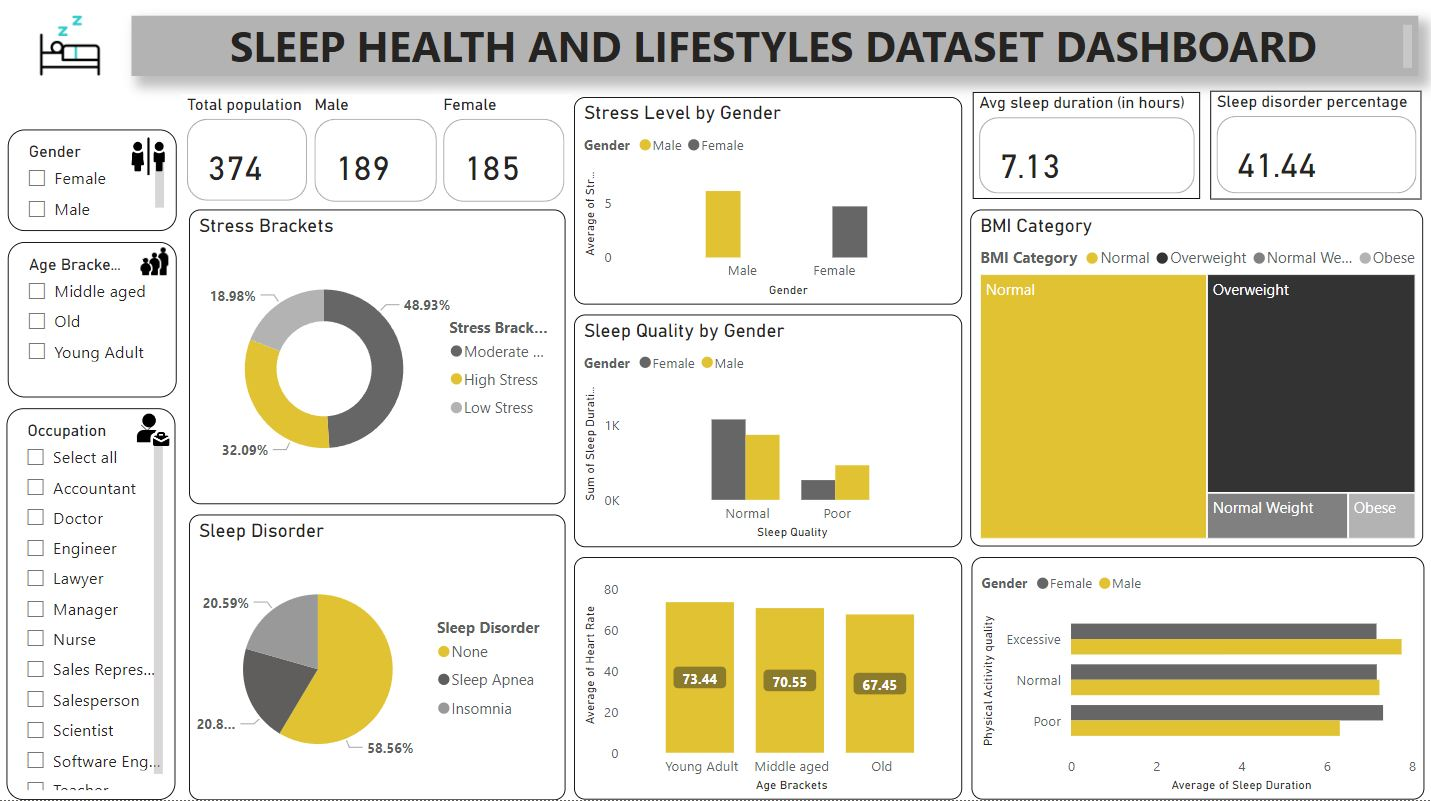

The page's visual inventory and layout, read from the dashboard file:
{"tool":"powerbi","page":{"name":"Page 1","canvas":[1280,720],"ordinal":0},"visuals":[{"type":"textbox","box":[117.4,20.9,1145.4,53.5],"z":0},{"type":"image","box":[10.5,9.3,107,77.9],"z":1000},{"type":"clusteredColumnChart","title":" Stress Level by Gender","fields":{"Category":["Sleep_health_and_lifestyle_dataset.Gender"],"Y":["Avg(Sleep_health_and_lifestyle_dataset.Stress Level)"],"Series":["Sleep_health_and_lifestyle_dataset.Gender"]},"box":[511.6,93,345.3,184.9],"z":2000},{"type":"donutChart","title":"Stress Brackets","fields":{"Category":["Sleep_health_and_lifestyle_dataset.Stress Brackets"],"Y":["CountNonNull(Sleep_health_and_lifestyle_dataset.Stress Brackets)"]},"box":[168.6,194.2,334.9,262.8],"z":3000},{"type":"clusteredColumnChart","title":"Sleep Quality by Gender","fields":{"Category":["Sleep_health_and_lifestyle_dataset.Sleep Quality"],"Y":["Sum(Sleep_health_and_lifestyle_dataset.Sleep Duration)"],"Series":["Sleep_health_and_lifestyle_dataset.Gender"]},"box":[511.6,287.2,345.3,207],"z":4000},{"type":"slicer","fields":{"Values":["Sleep_health_and_lifestyle_dataset.Age Brackets"]},"box":[8.1,222.1,150,138.4],"z":5000},{"type":"slicer","fields":{"Values":["Sleep_health_and_lifestyle_dataset.Occupation"]},"box":[7,370.9,150,348.8],"z":6000},{"type":"pieChart","title":"Sleep Disorder","fields":{"Category":["Sleep_health_and_lifestyle_dataset.Sleep Disorder"],"Y":["CountNonNull(Sleep_health_and_lifestyle_dataset.Sleep Disorder)"]},"box":[168.6,465.1,334.9,254.7],"z":7000},{"type":"clusteredColumnChart","fields":{"Y":["Avg(Sleep_health_and_lifestyle_dataset.Heart Rate)"],"Category":["Sleep_health_and_lifestyle_dataset.Age Brackets"]},"box":[511.6,503.5,345.3,216.3],"z":8000},{"type":"treemap","title":"BMI Category ","fields":{"Group":["Sleep_health_and_lifestyle_dataset.BMI Category"],"Values":["CountNonNull(Sleep_health_and_lifestyle_dataset.BMI Category)"]},"box":[865.1,194.2,403.5,300],"z":9000},{"type":"slicer","fields":{"Values":["Sleep_health_and_lifestyle_dataset.Gender"]},"box":[8.1,122.1,150,90.7],"z":10000},{"type":"image","box":[108.1,124.4,50,43],"z":11000},{"type":"image","box":[117.4,222.1,40.7,34.9],"z":12000},{"type":"image","box":[112.8,370.9,48.8,38.4],"z":13000},{"type":"cardVisual","title":"Avg  sleep duration (in hours)","fields":{"Data":["DAX.average_sleep_duration"]},"box":[867.4,89.5,202.3,95.3],"z":14000},{"type":"cardVisual","title":"Sleep disorder percentage","fields":{"Data":["DAX.percentage_of_sleep_disorder"]},"box":[1077.9,88.4,188.4,96.5],"z":15000},{"type":"cardVisual","title":"Male","fields":{"Data":["DAX.male_count"]},"box":[275.7,90.7,119.8,101.2],"z":16000},{"type":"cardVisual","title":"Female","fields":{"Data":["DAX.female_count"]},"box":[390.7,90.7,118.6,101.2],"z":17000},{"type":"cardVisual","title":"Total population","fields":{"Data":["DAX.total_population"]},"box":[162.5,90.7,118,100.2],"z":18000},{"type":"clusteredBarChart","fields":{"Category":["Sleep_health_and_lifestyle_dataset.Physical Acitivity quality"],"Y":["Avg(Sleep_health_and_lifestyle_dataset.Sleep Duration)"],"Series":["Sleep_health_and_lifestyle_dataset.Gender"]},"box":[866.3,503.5,403.5,216.3],"z":19000}]}

Visuals, with their boxes in screenshot pixels (x1, y1, x2, y2), scaled from the page's 1280x720 canvas onto the 1431x801 screenshot:
textbox: (131, 23, 1412, 83)
image: (12, 10, 131, 97)
" Stress Level by Gender" clusteredColumnChart: (572, 103, 958, 309)
"Stress Brackets" donutChart: (188, 216, 563, 508)
"Sleep Quality by Gender" clusteredColumnChart: (572, 320, 958, 550)
slicer - Sleep_health_and_lifestyle_dataset.Age Brackets: (9, 247, 177, 401)
slicer - Sleep_health_and_lifestyle_dataset.Occupation: (8, 413, 176, 800)
"Sleep Disorder" pieChart: (188, 517, 563, 800)
clusteredColumnChart - Avg(Sleep_health_and_lifestyle_dataset.Heart Rate) x Sleep_health_and_lifestyle_dataset.Age Brackets: (572, 560, 958, 800)
"BMI Category " treemap: (967, 216, 1418, 550)
slicer - Sleep_health_and_lifestyle_dataset.Gender: (9, 136, 177, 237)
image: (121, 138, 177, 186)
image: (131, 247, 177, 286)
image: (126, 413, 181, 455)
"Avg  sleep duration (in hours)" cardVisual: (970, 100, 1196, 206)
"Sleep disorder percentage" cardVisual: (1205, 98, 1416, 206)
"Male" cardVisual: (308, 101, 442, 213)
"Female" cardVisual: (437, 101, 569, 213)
"Total population" cardVisual: (182, 101, 314, 212)
clusteredBarChart - Sleep_health_and_lifestyle_dataset.Physical Acitivity quality x Avg(Sleep_health_and_lifestyle_dataset.Sleep Duration): (968, 560, 1420, 800)
